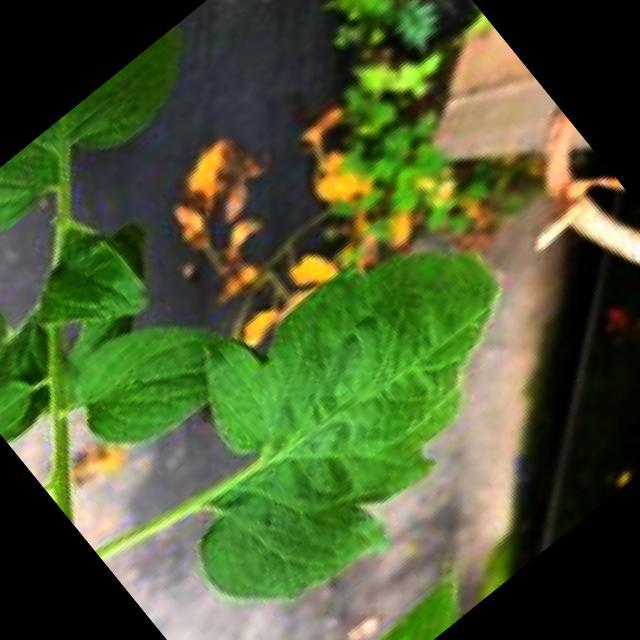Tomato healthy leaf: (155, 248, 503, 600), (77, 326, 208, 440)
